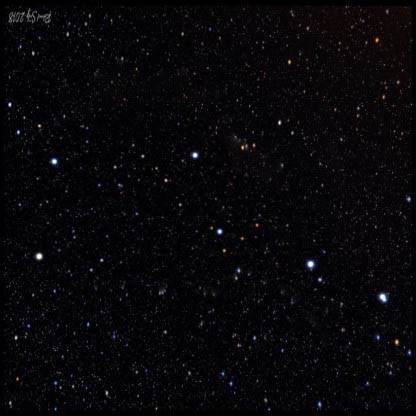Ursa Major: (31, 244, 54, 273), (40, 152, 65, 176), (367, 285, 391, 307), (301, 250, 320, 277), (210, 218, 233, 240), (191, 141, 206, 167)
